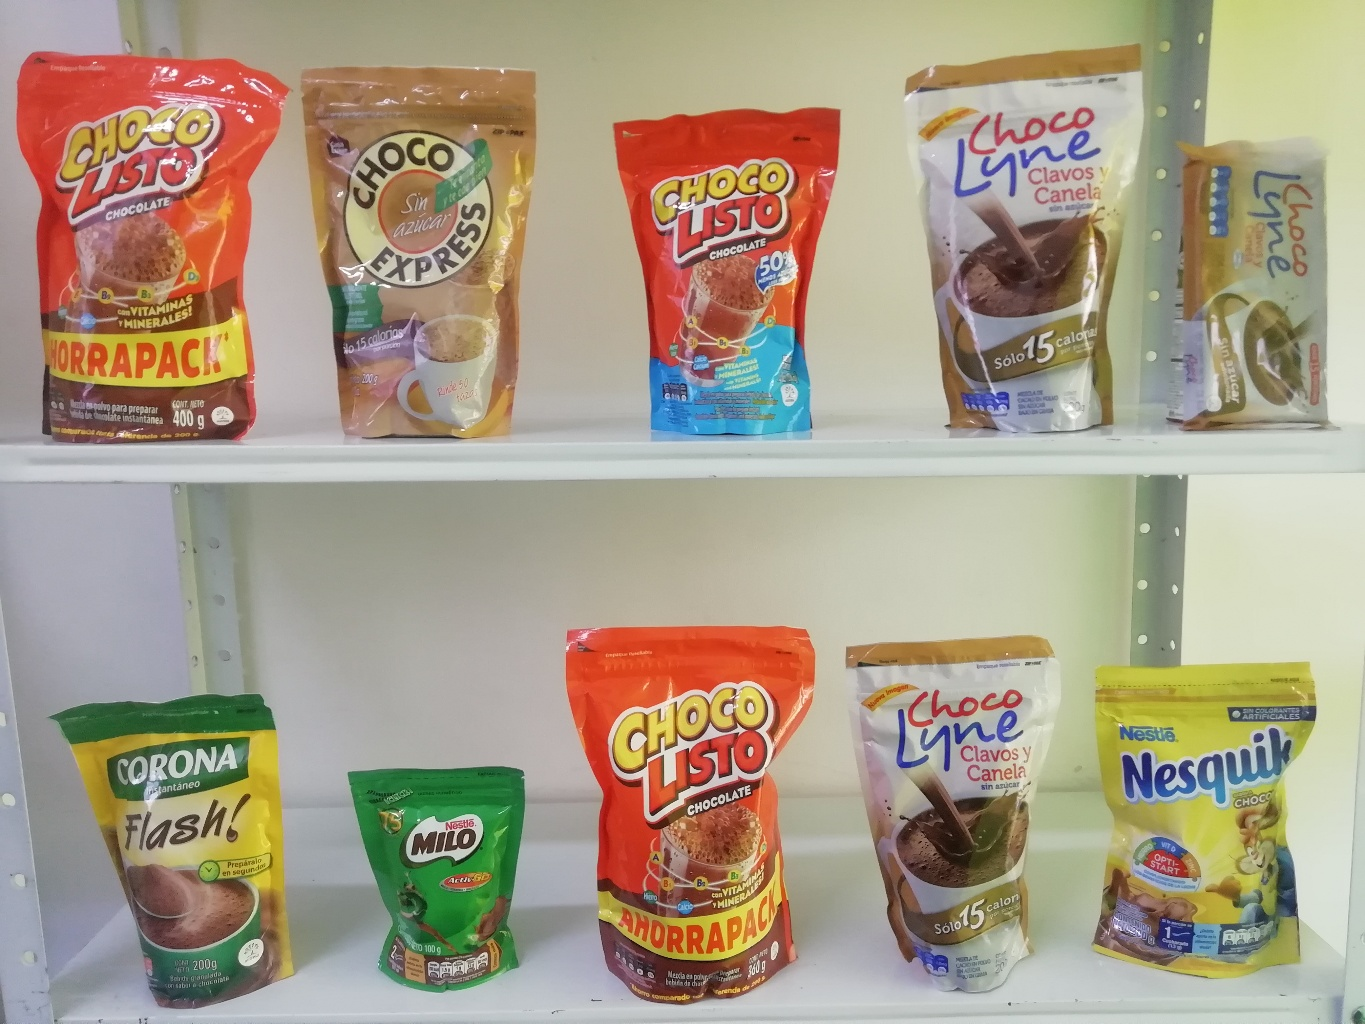COL0170103DYP36000: (563, 623, 824, 1006)
COL0170103DYP40000: (16, 44, 279, 442)
COL0170104DYP20000: (610, 103, 842, 436)
COL0170203DYP10000: (340, 759, 532, 994)
COL0170303DYP20000: (1096, 662, 1316, 981)
